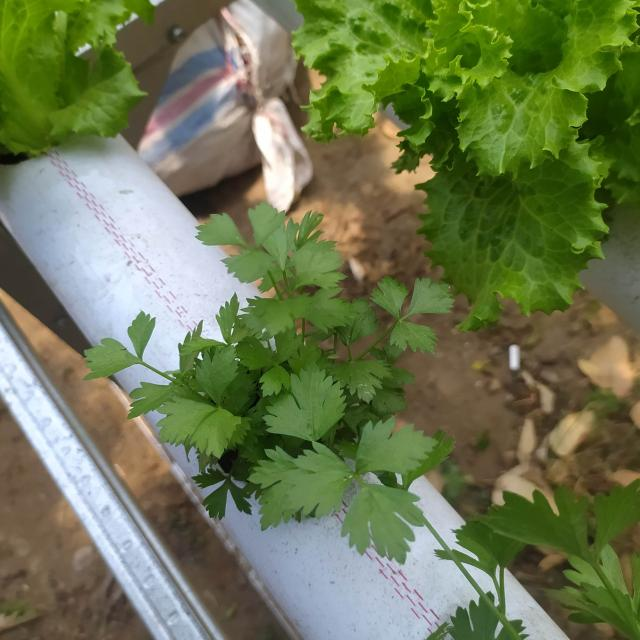Wet Waste: (205, 225, 559, 509)
